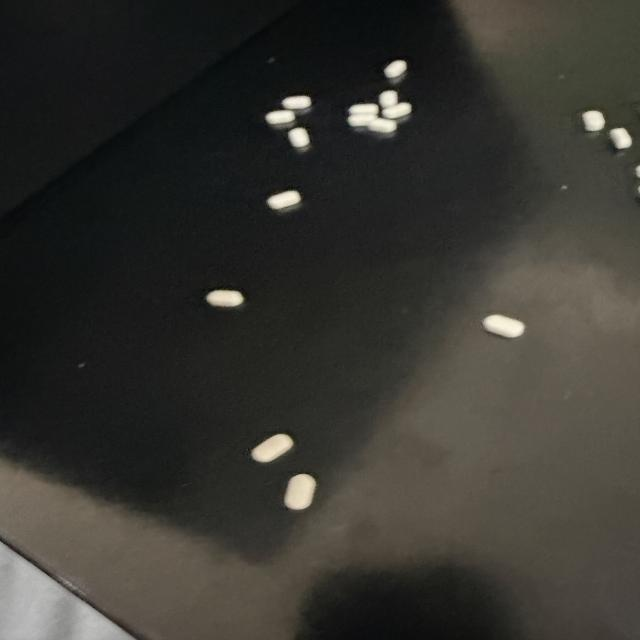pill: (251, 433, 294, 463), (284, 474, 316, 510), (483, 315, 525, 338), (267, 190, 301, 209), (206, 290, 244, 307), (382, 103, 412, 119), (610, 128, 632, 149), (582, 111, 605, 131), (265, 110, 295, 125), (368, 118, 397, 133), (282, 96, 312, 110), (288, 128, 310, 147), (384, 60, 407, 78), (348, 114, 377, 126), (379, 90, 398, 108), (349, 104, 379, 115), (635, 165, 639, 177)
